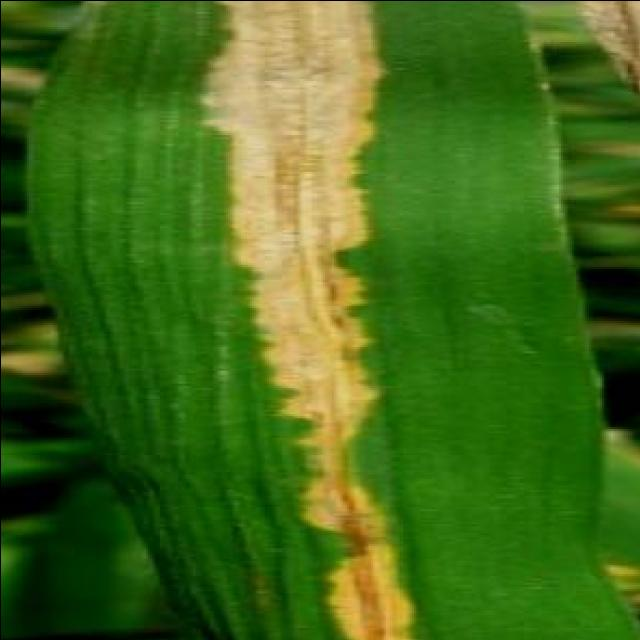Bacterial_Leaf_Blight: (121, 0, 577, 640)
